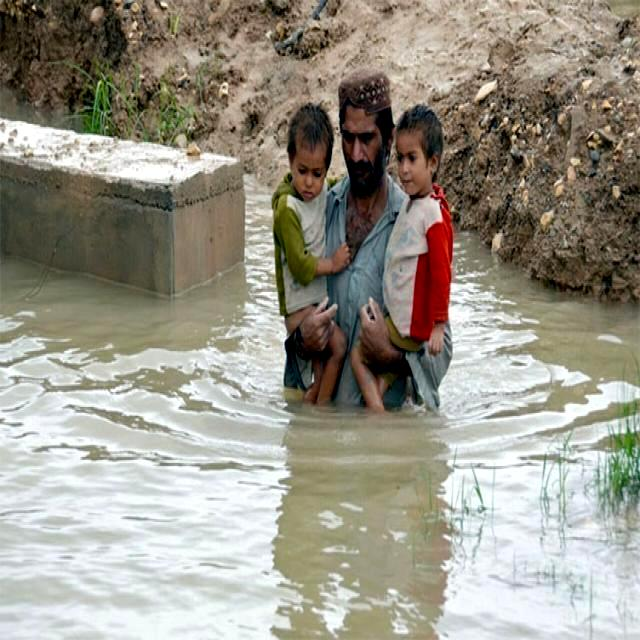civilian: (279, 59, 461, 427), (352, 97, 453, 419), (262, 96, 351, 414)
